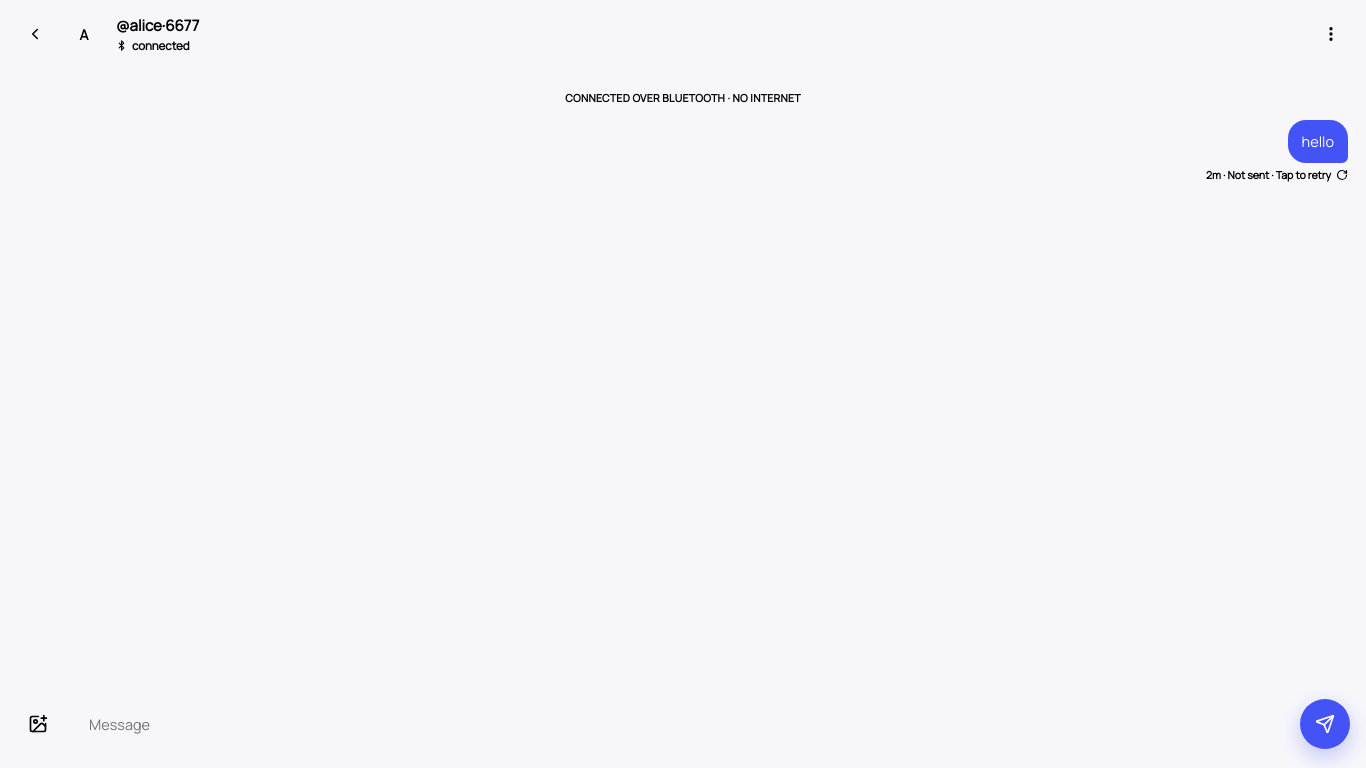
ChatScreen — resending a failed message › puts the message back to failed and says why when the resend is refused
Click the button with aria-label "Retry sending" at {"x": 1277, "y": 175}, box [1206,168,1348,182]
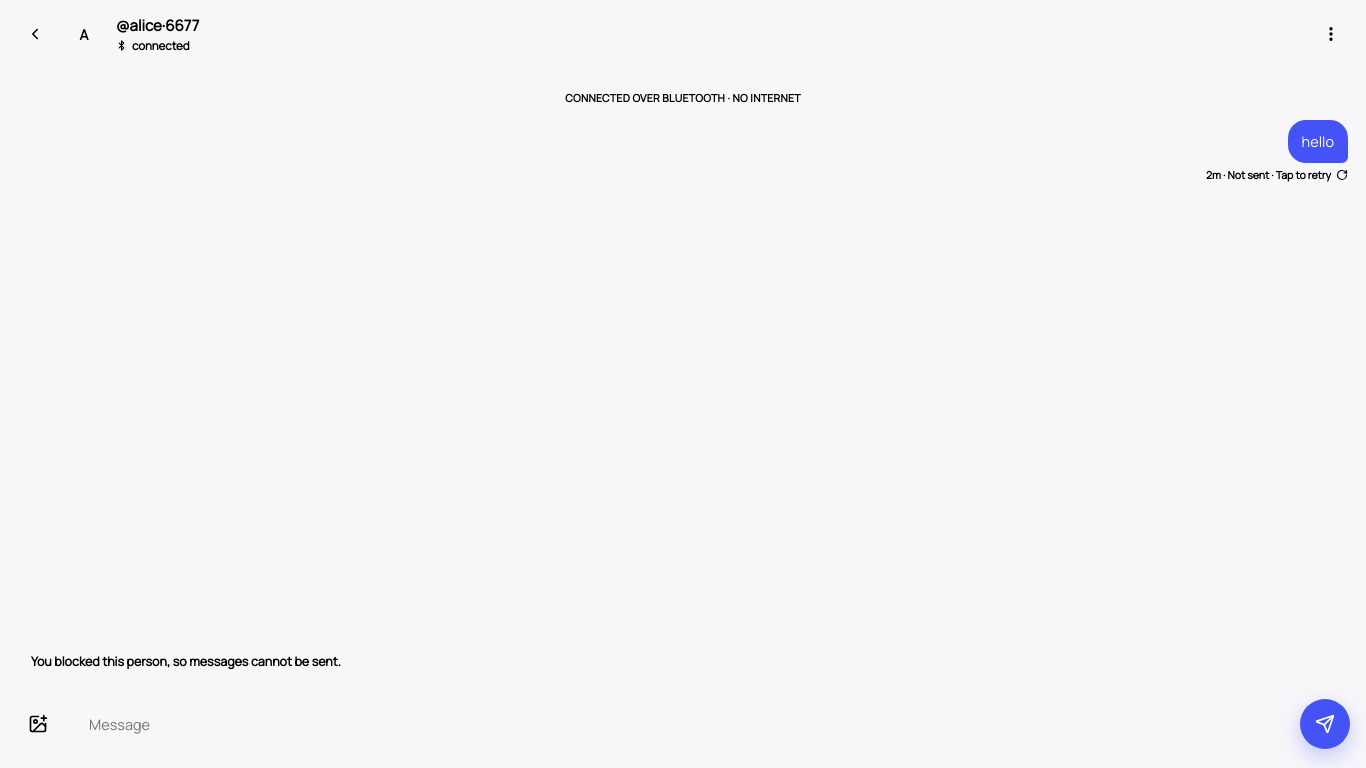
Expected: the text "You blocked this person, so messages cannot be sent." is shown, [31,653,341,670]
